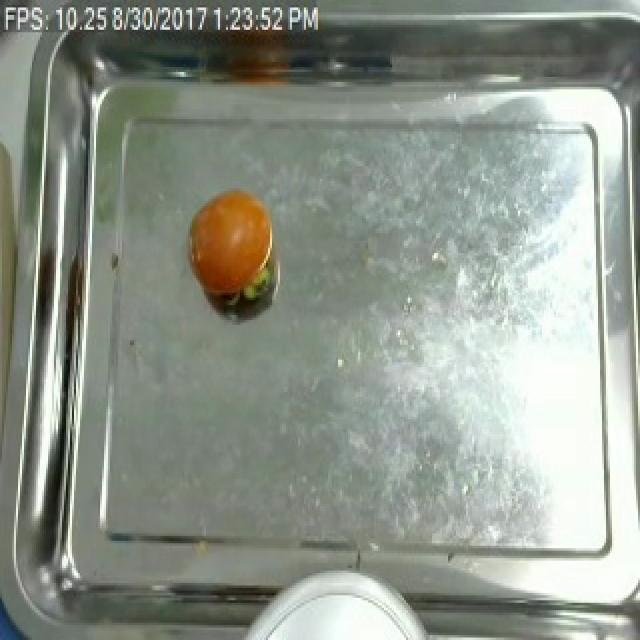Fruit: (180, 186, 278, 305)
